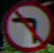Don't turn left: (2, 3, 43, 46)
